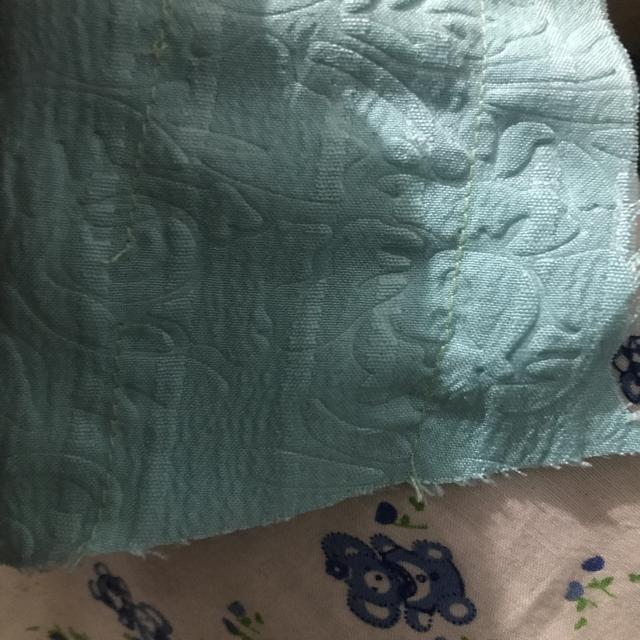broken: (91, 224, 162, 333)
